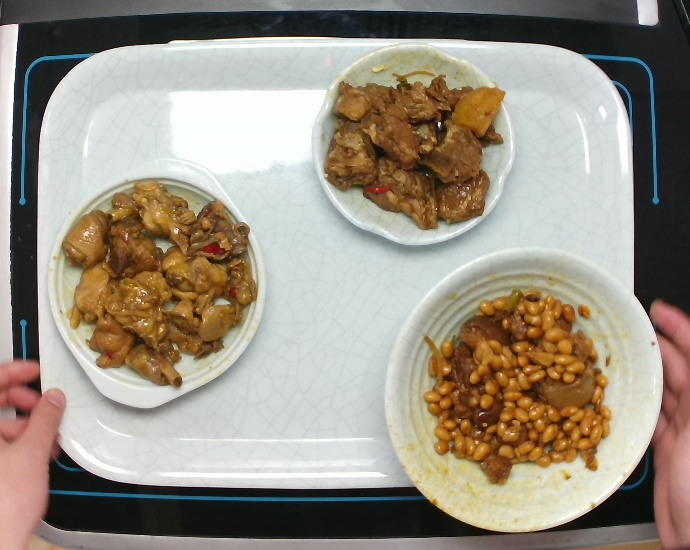JYsf-Ao_Yuan_Wan: (307, 40, 518, 255)
JYsf-Shuang_Er_Pan: (47, 151, 271, 421)
JYsf-Xiao_Tang_Wan: (375, 238, 670, 539)
